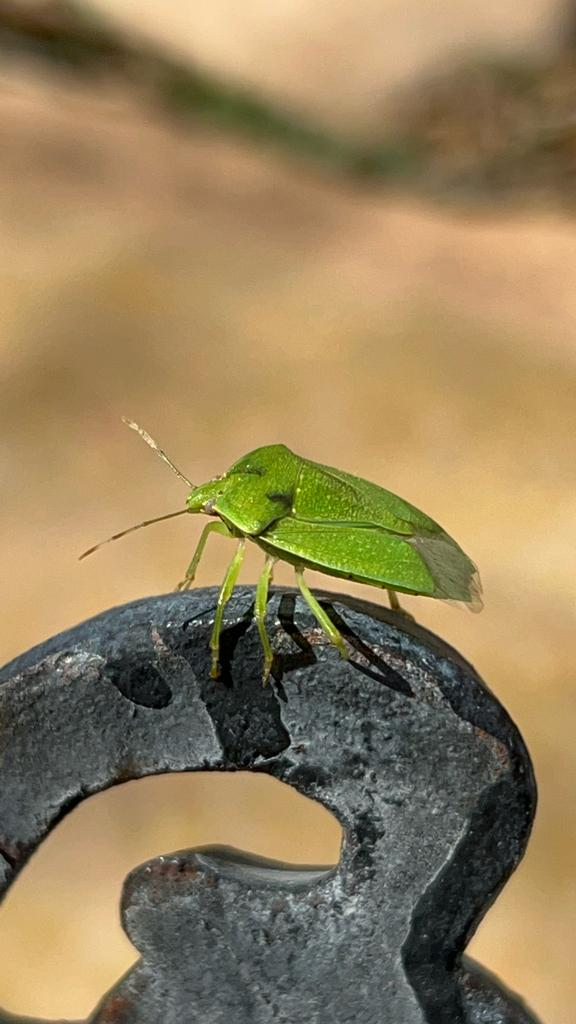stink_bugs: (27, 309, 560, 736)
